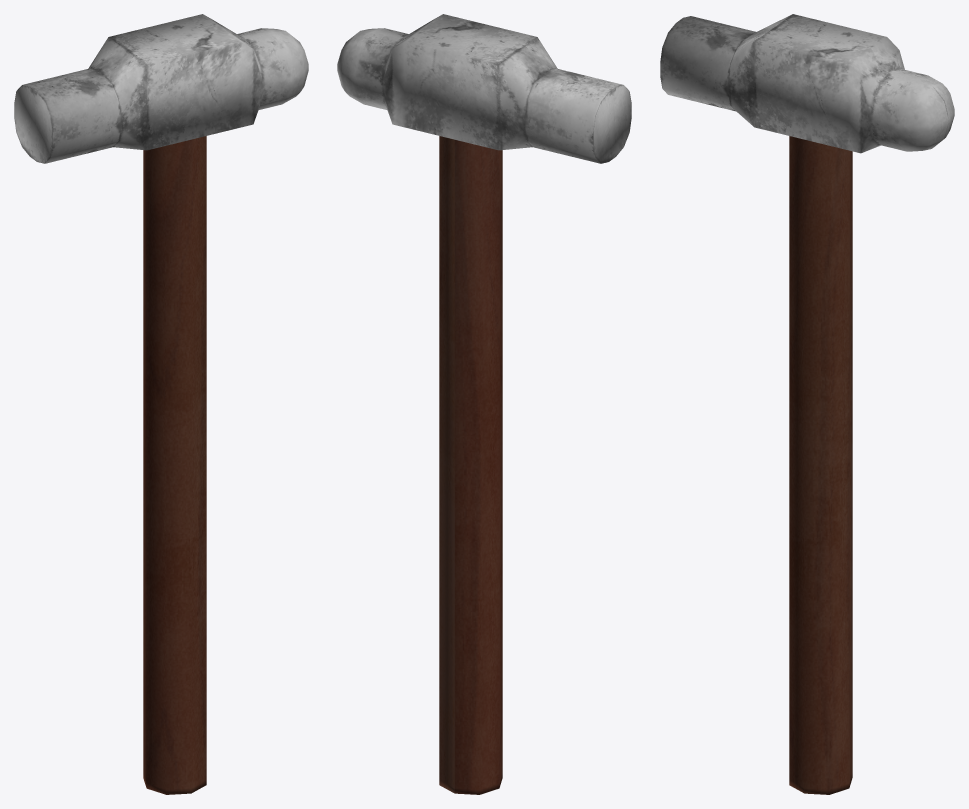
The model's file is Hummer.fbx.
The picture shows the model from 3 angles, left to right: view 1: azimuth 30°, elevation 25°; view 2: azimuth 150°, elevation 25°; view 3: azimuth 330°, elevation 25°; orthographic projection.
Parts seen in each view (by area): view 1: Cube; view 2: Cube; view 3: Cube.
Part boxes in pixels (box(x1,y1,x2,y2)): Cube: box(14, 14, 308, 794); Cube: box(337, 14, 631, 794); Cube: box(660, 14, 954, 794).
Size of the model in its own units: 130 by 344 by 32.35.
Materials: 1 (1 with a texture image).
